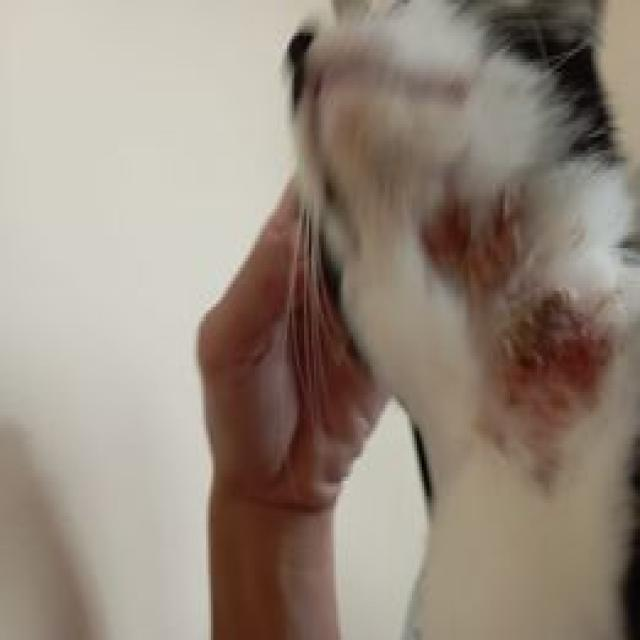Ringworm: (516, 292, 616, 418), (426, 202, 470, 267)
